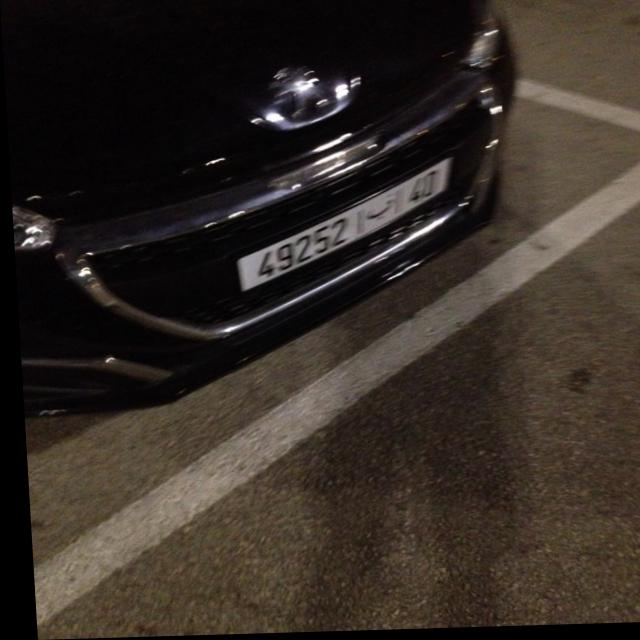License-Plate: (234, 161, 450, 292)
